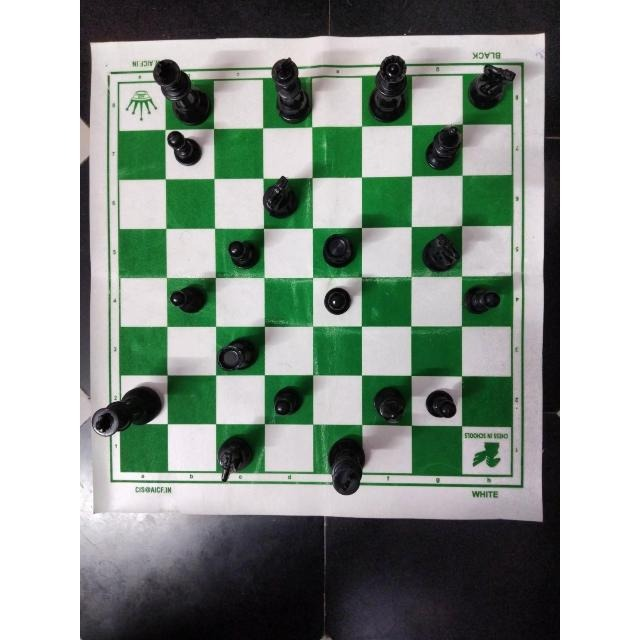black-bishop: (424, 125, 463, 175), (371, 384, 409, 425)
black-king: (152, 57, 213, 129), (91, 386, 167, 438), (270, 54, 314, 126), (326, 434, 366, 502)
black-knight: (466, 62, 516, 115), (213, 434, 257, 484), (260, 174, 302, 222), (419, 232, 463, 276)
black-pawn: (166, 131, 206, 169), (225, 237, 263, 275), (169, 282, 209, 317), (269, 384, 305, 422), (462, 286, 504, 318), (422, 386, 460, 420), (322, 287, 356, 319)
black-queen: (367, 53, 412, 127)
black-rook: (316, 230, 357, 276), (214, 342, 264, 375)
